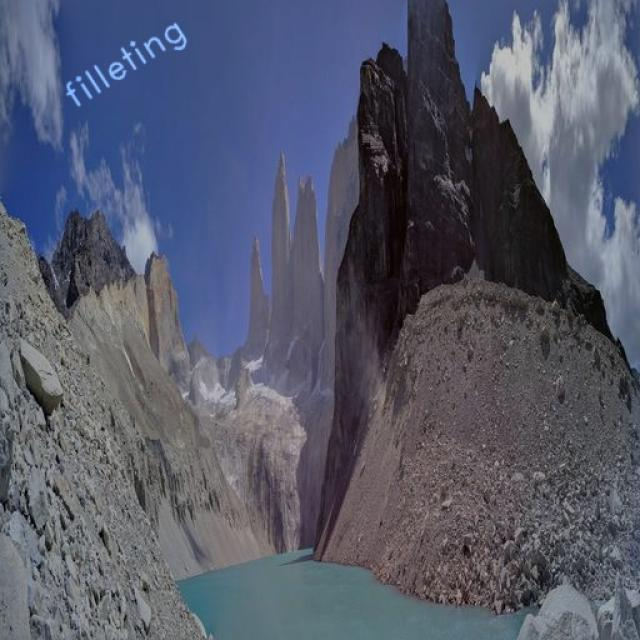watermark: (64, 7, 188, 115)
